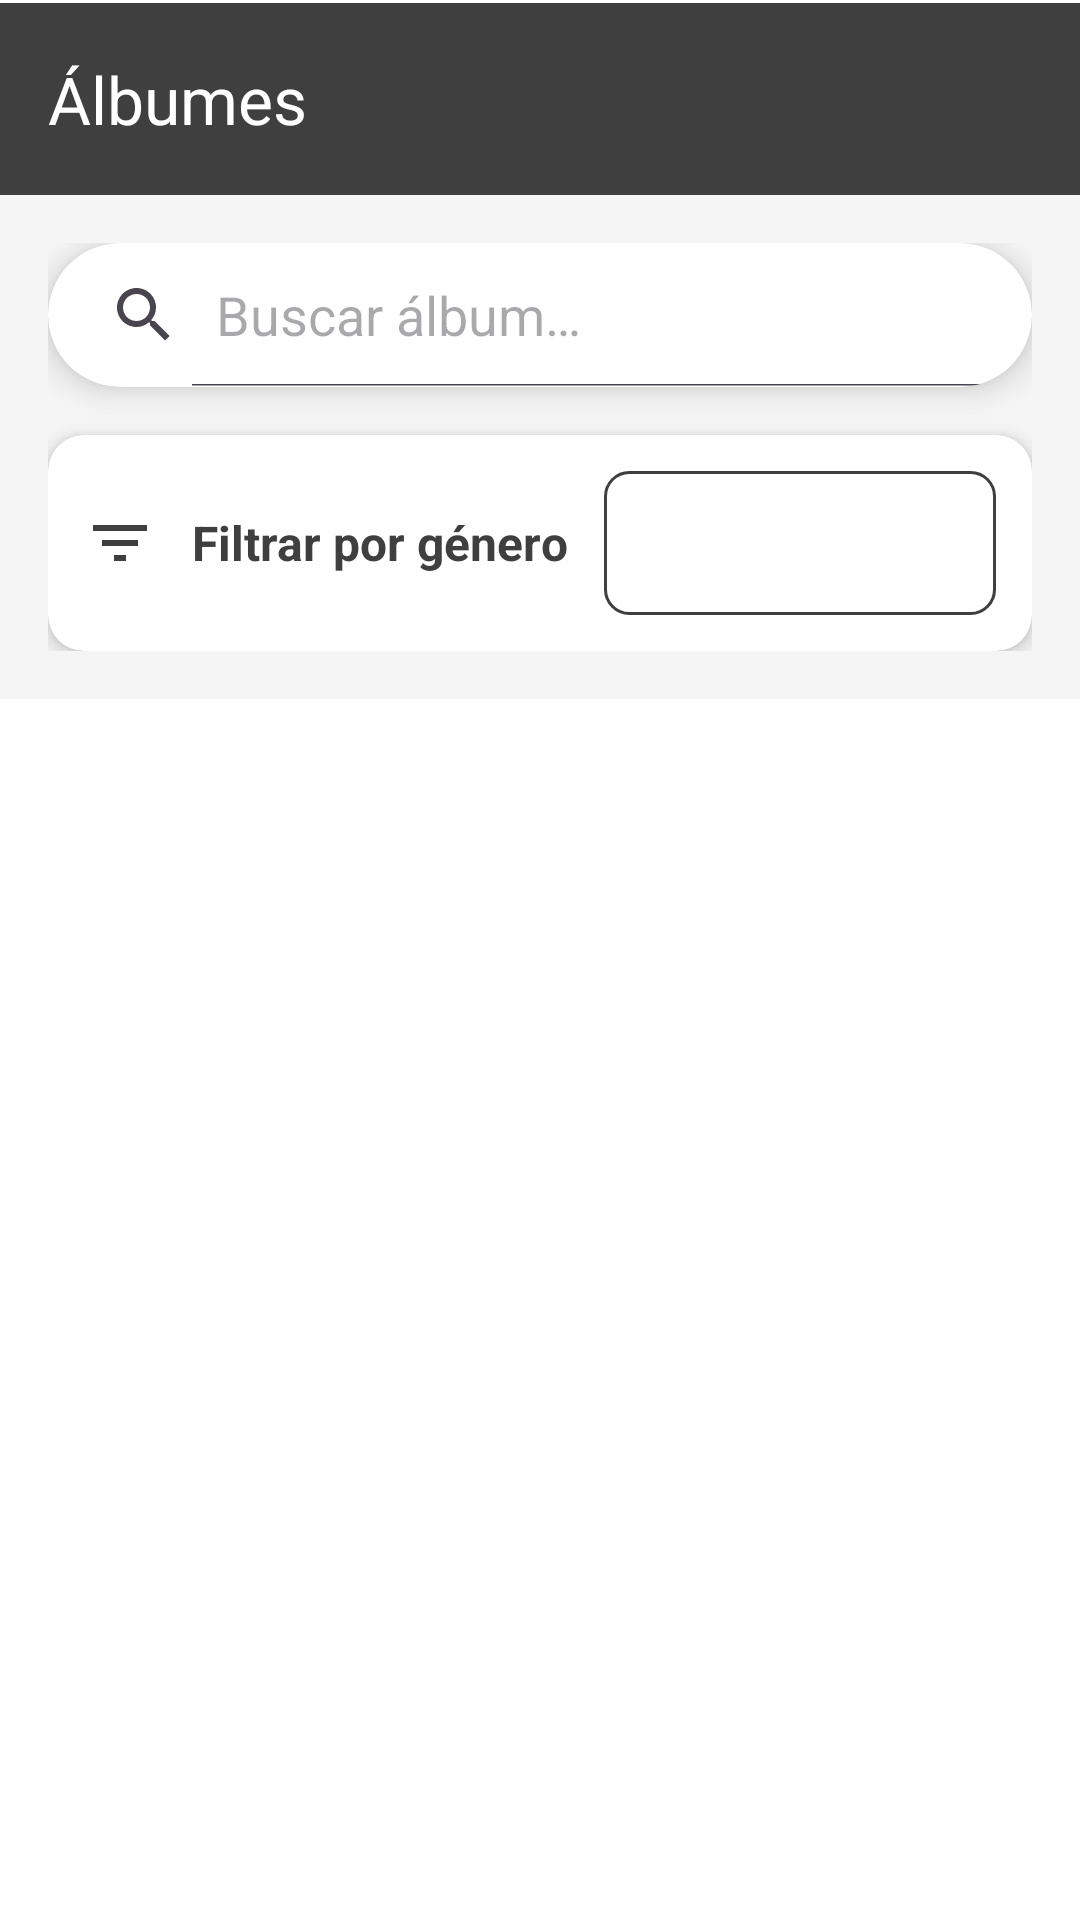

Icons on this 1080×1920 Android screen, each with its box as [x1,y1,x2,y2]:
filter: [93,525,147,561]
